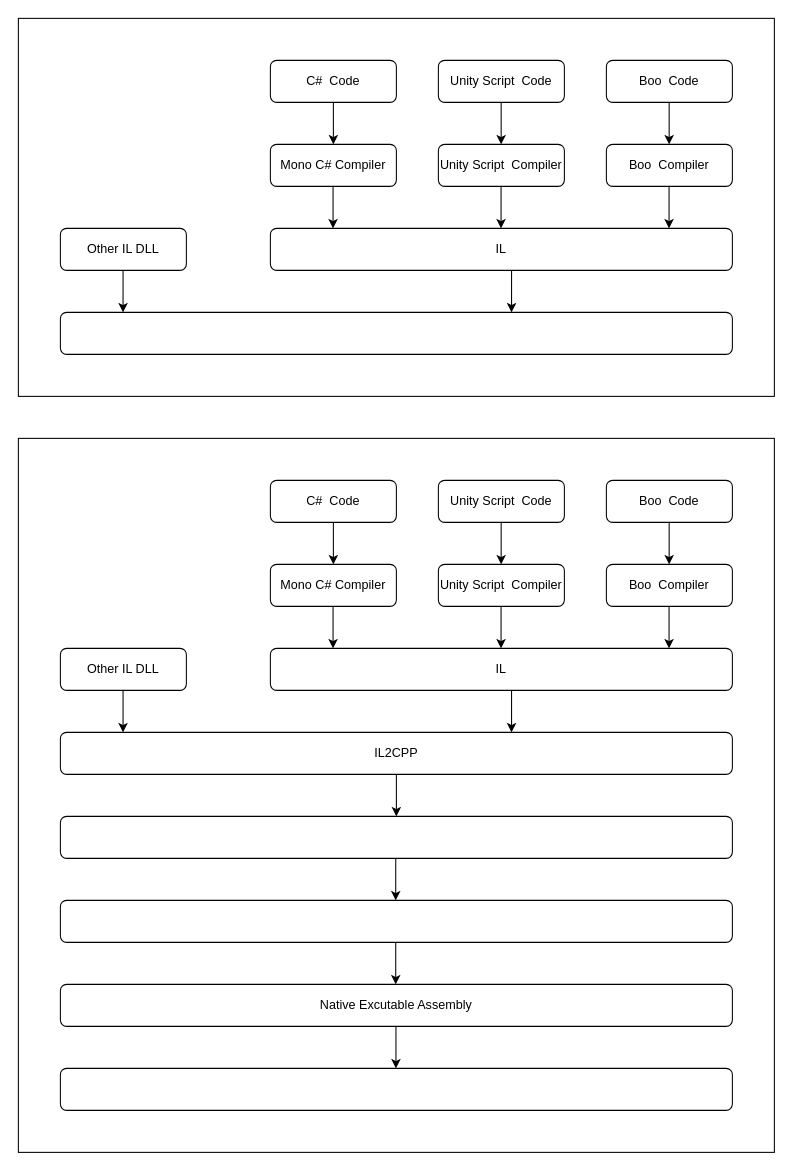
The diagram is 793 pixels wide and 1171 high, and some of its shapes have lost their labels. Here are the shapes that lost their labels. From the top down, the centre of each, then its label:
At [395,332]: "Mono VM".
At [395,836]: "C++ Code".
At [395,920]: "Native C++ Compiler".
At [395,1088]: "IL2CPP VM".
